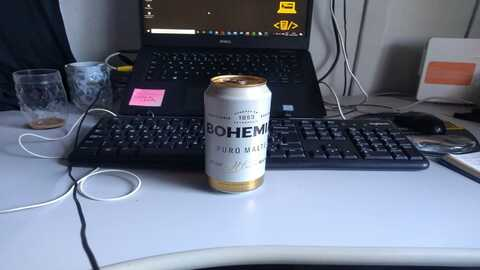bohemia: (197, 72, 275, 198)
